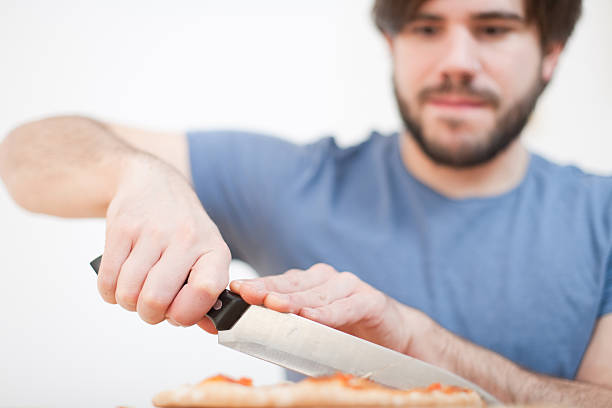knife: (90, 251, 506, 408)
